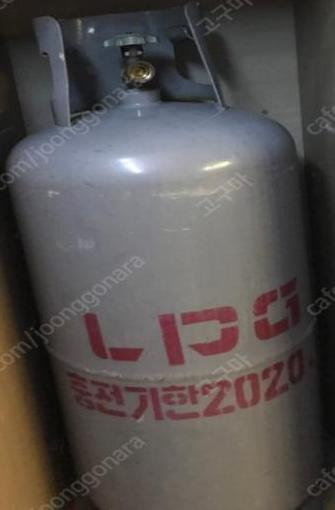cylinder: (0, 1, 335, 510)
